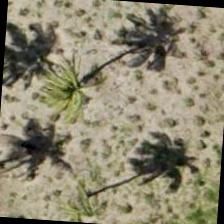Kelapa_Sawit: (20, 37, 116, 133), (36, 143, 133, 223)
